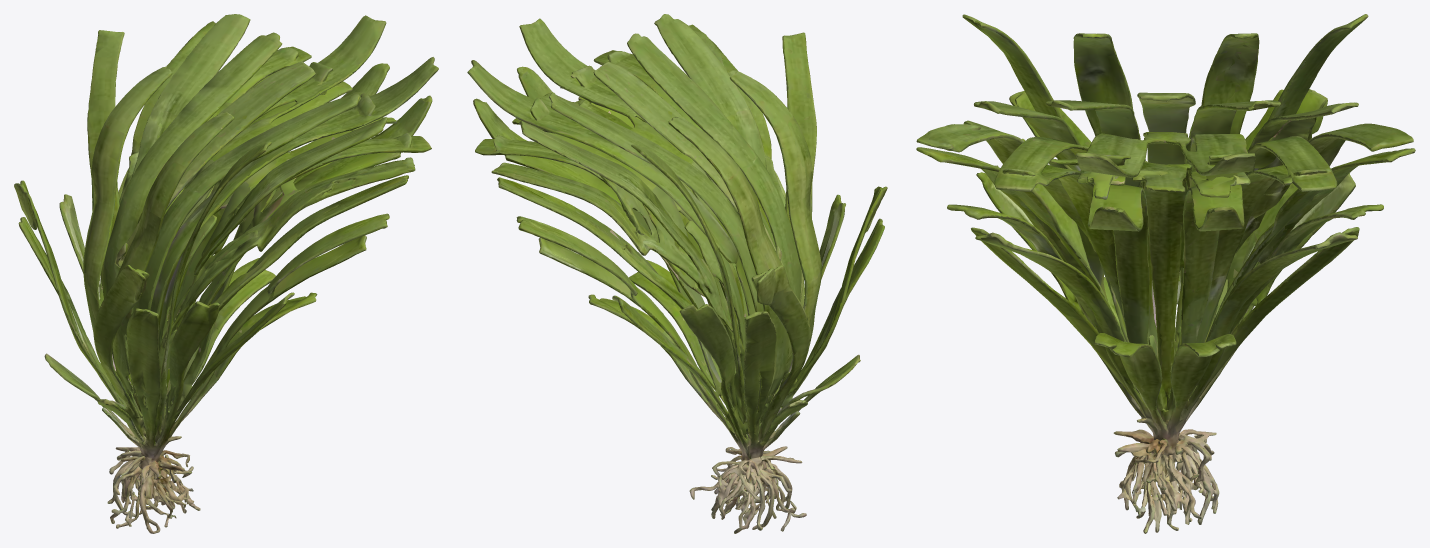
Rendered from ribbon-grass-v10.glb.
3 views of the same model, side by side, from view 1: azimuth 30°, elevation 25°; view 2: azimuth 150°, elevation 25°; view 3: azimuth 270°, elevation 25° (orthographic). The views are drawn at different scales.
Parts seen in each view (by area): view 1: geometry_0; view 2: geometry_0; view 3: geometry_0.
Part boxes in pixels (x1=…): geometry_0: x1=14, y1=14, x2=438, y2=533; geometry_0: x1=467, y1=14, x2=887, y2=533; geometry_0: x1=916, y1=14, x2=1415, y2=533.
Size of the model in its own units: 0.2079 by 0.2498 by 0.2167.
Materials: 1 (1 with a texture image).
